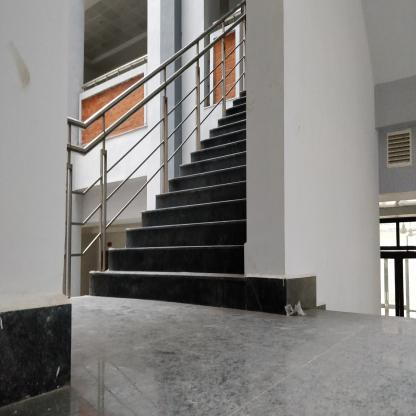stairs: (170, 165, 247, 324)
